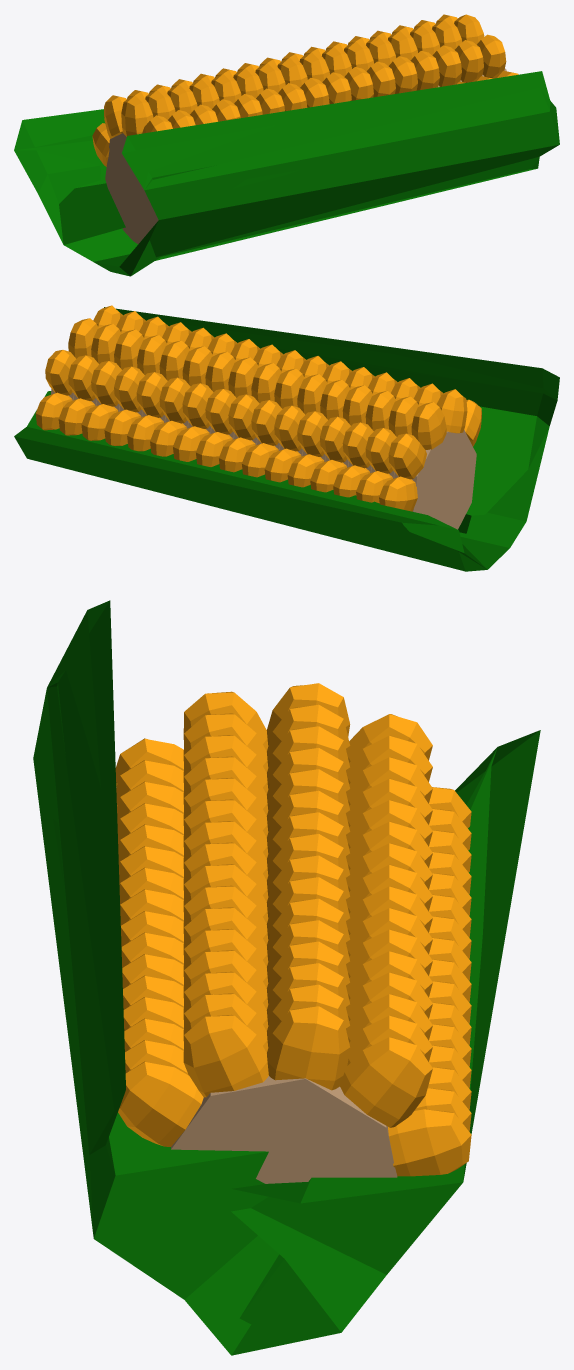
File: corn.glb
3 renders of one model, top to bottom at view 1: azimuth 30°, elevation 25°; view 2: azimuth 150°, elevation 25°; view 3: azimuth 270°, elevation 25°, orthographic. The views are drawn at different scales.
Parts seen in each view (by area): view 1: Cube.096, Cylinder, Cube, Cube.091, Cube.085, Cube.079, Cube.073, Cube.067, Cube.061, Cube.055, Cube.003, Cube.049 (+24 smaller); view 2: Cube.096, Cylinder, Cube.003, Cube, Cube.004, Cube.093, Cube.039, Cube.045, Cube.033, Cube.057, Cube.063, Cube.051 (+55 smaller); view 3: Cube.096, Cylinder.015, Cube.093, Cube.090, Cube.091, Cube.092, Cube.094, Cube.043, Cube.061, Cube.085, Cube.001, Cube.025 (+59 smaller).
Part boxes in pixels (<box>): Cube.096: <box>14,71,559,276</box>; Cylinder: <box>105,133,158,244</box>; Cube: <box>121,95,153,136</box>; Cube.091: <box>477,34,506,77</box>; Cube.085: <box>455,40,483,82</box>; Cube.079: <box>432,45,461,86</box>; Cube.073: <box>410,51,439,90</box>; Cube.067: <box>388,56,417,93</box>; Cube.061: <box>366,61,395,97</box>; Cube.055: <box>344,67,373,100</box>; Cube.003: <box>104,95,126,138</box>; Cube.049: <box>322,72,351,104</box>; Cube.096: <box>14,307,559,571</box>; Cylinder: <box>394,430,476,529</box>; Cube.003: <box>388,433,426,479</box>; Cube: <box>411,402,446,449</box>; Cube.004: <box>379,476,417,511</box>; Cube.093: <box>45,350,75,395</box>; Cube.039: <box>251,400,282,445</box>; Cube.045: <box>228,394,259,440</box>; Cube.033: <box>274,405,304,451</box>; Cube.057: <box>182,383,213,428</box>; Cube.063: <box>159,377,190,423</box>; Cube.051: <box>205,389,236,434</box>; Cube.096: <box>33,600,540,1355</box>; Cylinder.015: <box>171,1076,397,1183</box>; Cube.093: <box>339,1037,432,1127</box>; Cube.090: <box>267,1006,350,1090</box>; Cube.091: <box>183,1014,268,1097</box>; Cube.092: <box>118,1061,203,1146</box>; Cube.094: <box>388,1109,471,1176</box>; Cube.043: <box>183,842,268,901</box>; Cube.061: <box>183,907,268,966</box>; Cube.085: <box>183,993,268,1052</box>; Cube.001: <box>183,691,268,751</box>; Cube.025: <box>183,777,268,837</box>.
Size of the model in its own units: 0.3524 by 0.1195 by 0.1693.
